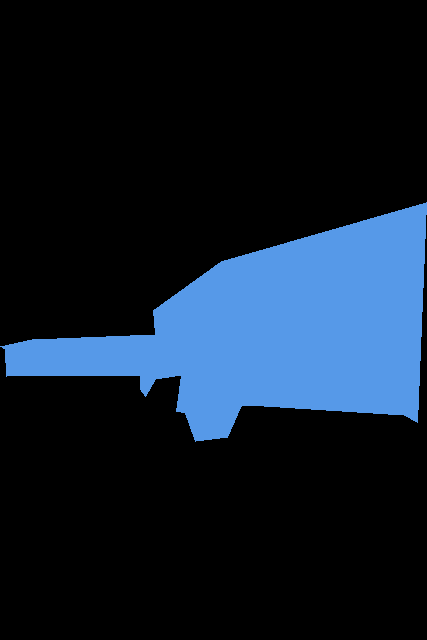Airplane: (0, 202, 426, 442)
